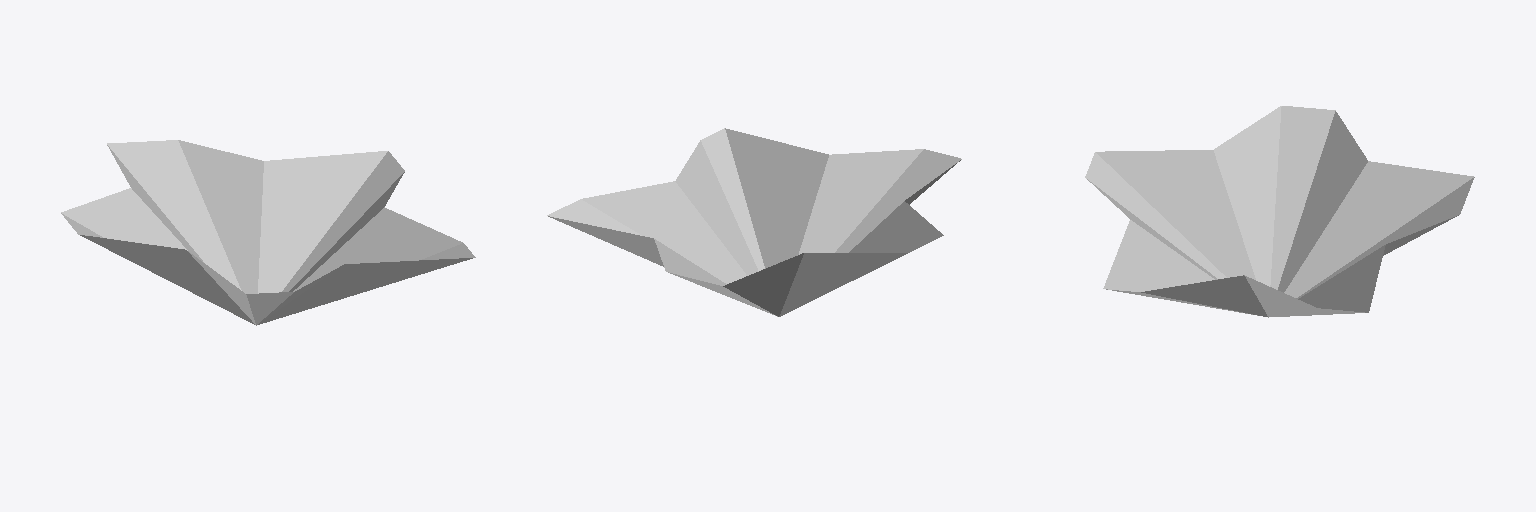
Rendered from Petal_5.obj.
The picture shows the model from 3 angles: view 1: azimuth 30°, elevation 25°; view 2: azimuth 150°, elevation 25°; view 3: azimuth 270°, elevation 25°; orthographic projection.
Parts seen in each view (by area): view 1: Petal_5; view 2: Petal_5; view 3: Petal_5.
Part boxes in pixels (x1,y1,x2,y2): Petal_5: (61, 140, 475, 325); Petal_5: (547, 128, 961, 316); Petal_5: (1085, 106, 1474, 317).
Bounding box in the file's own units: 0.834 × 0.2888 × 0.7952.